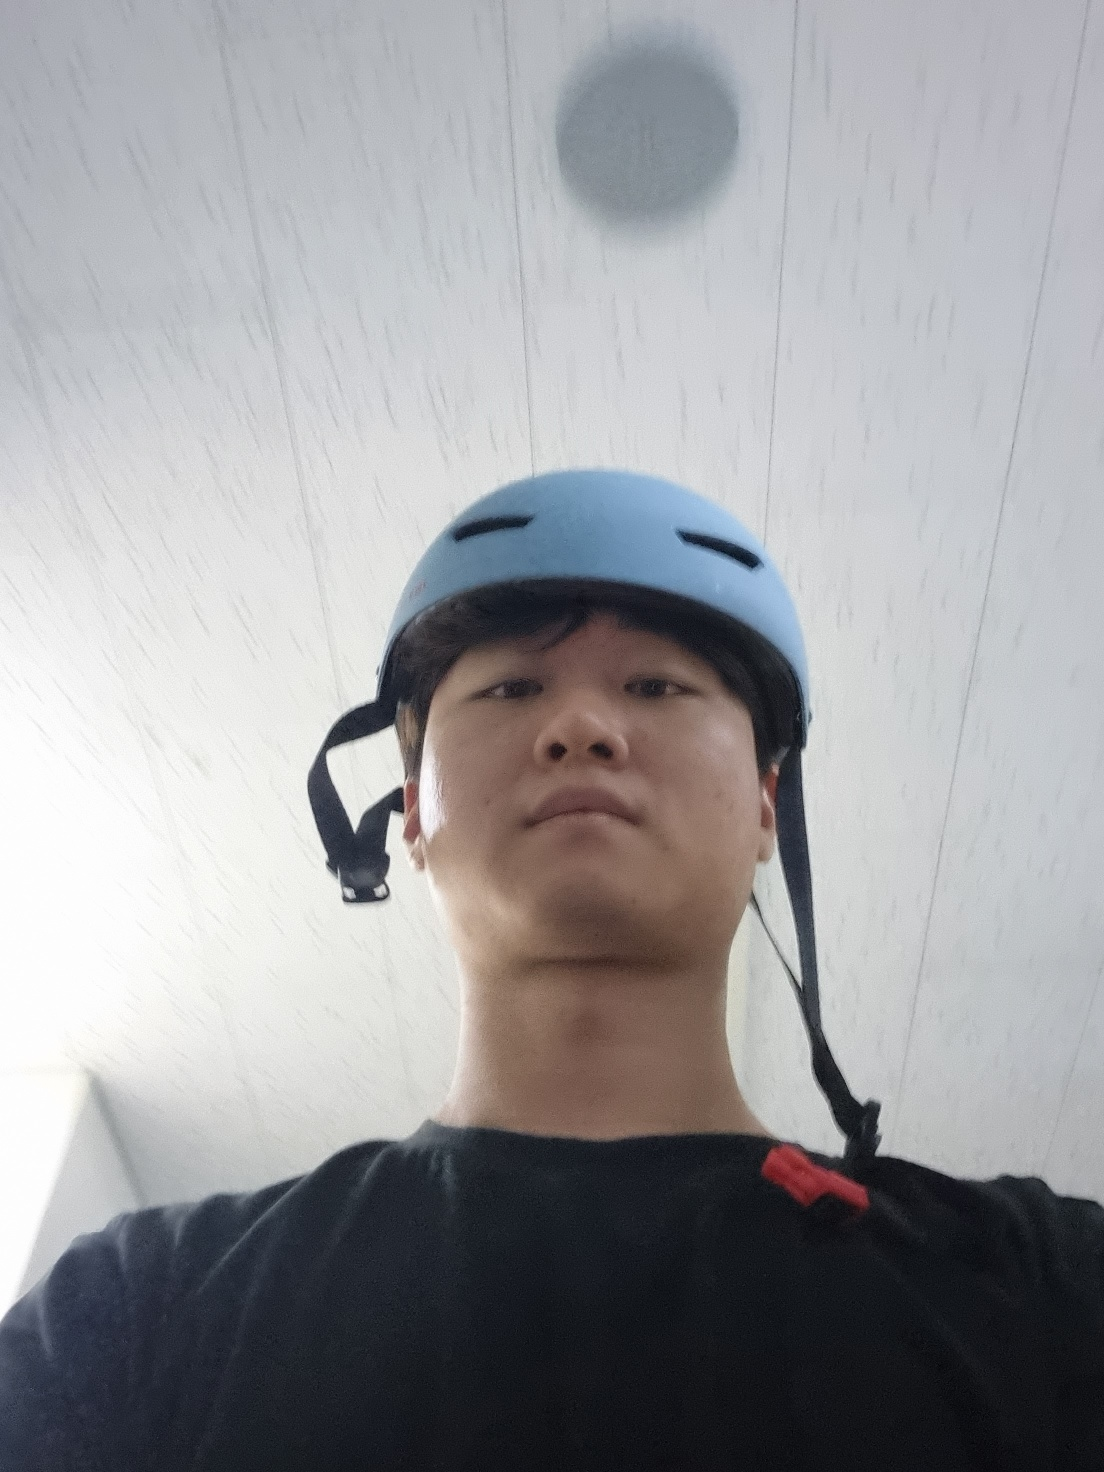Helmet: (308, 442, 864, 1054)
